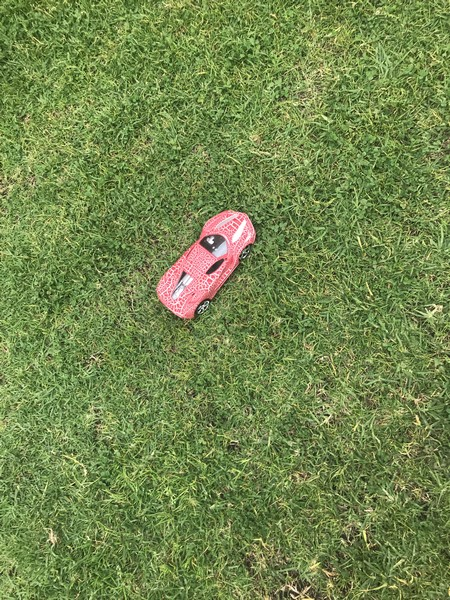RC: (154, 208, 257, 321)
